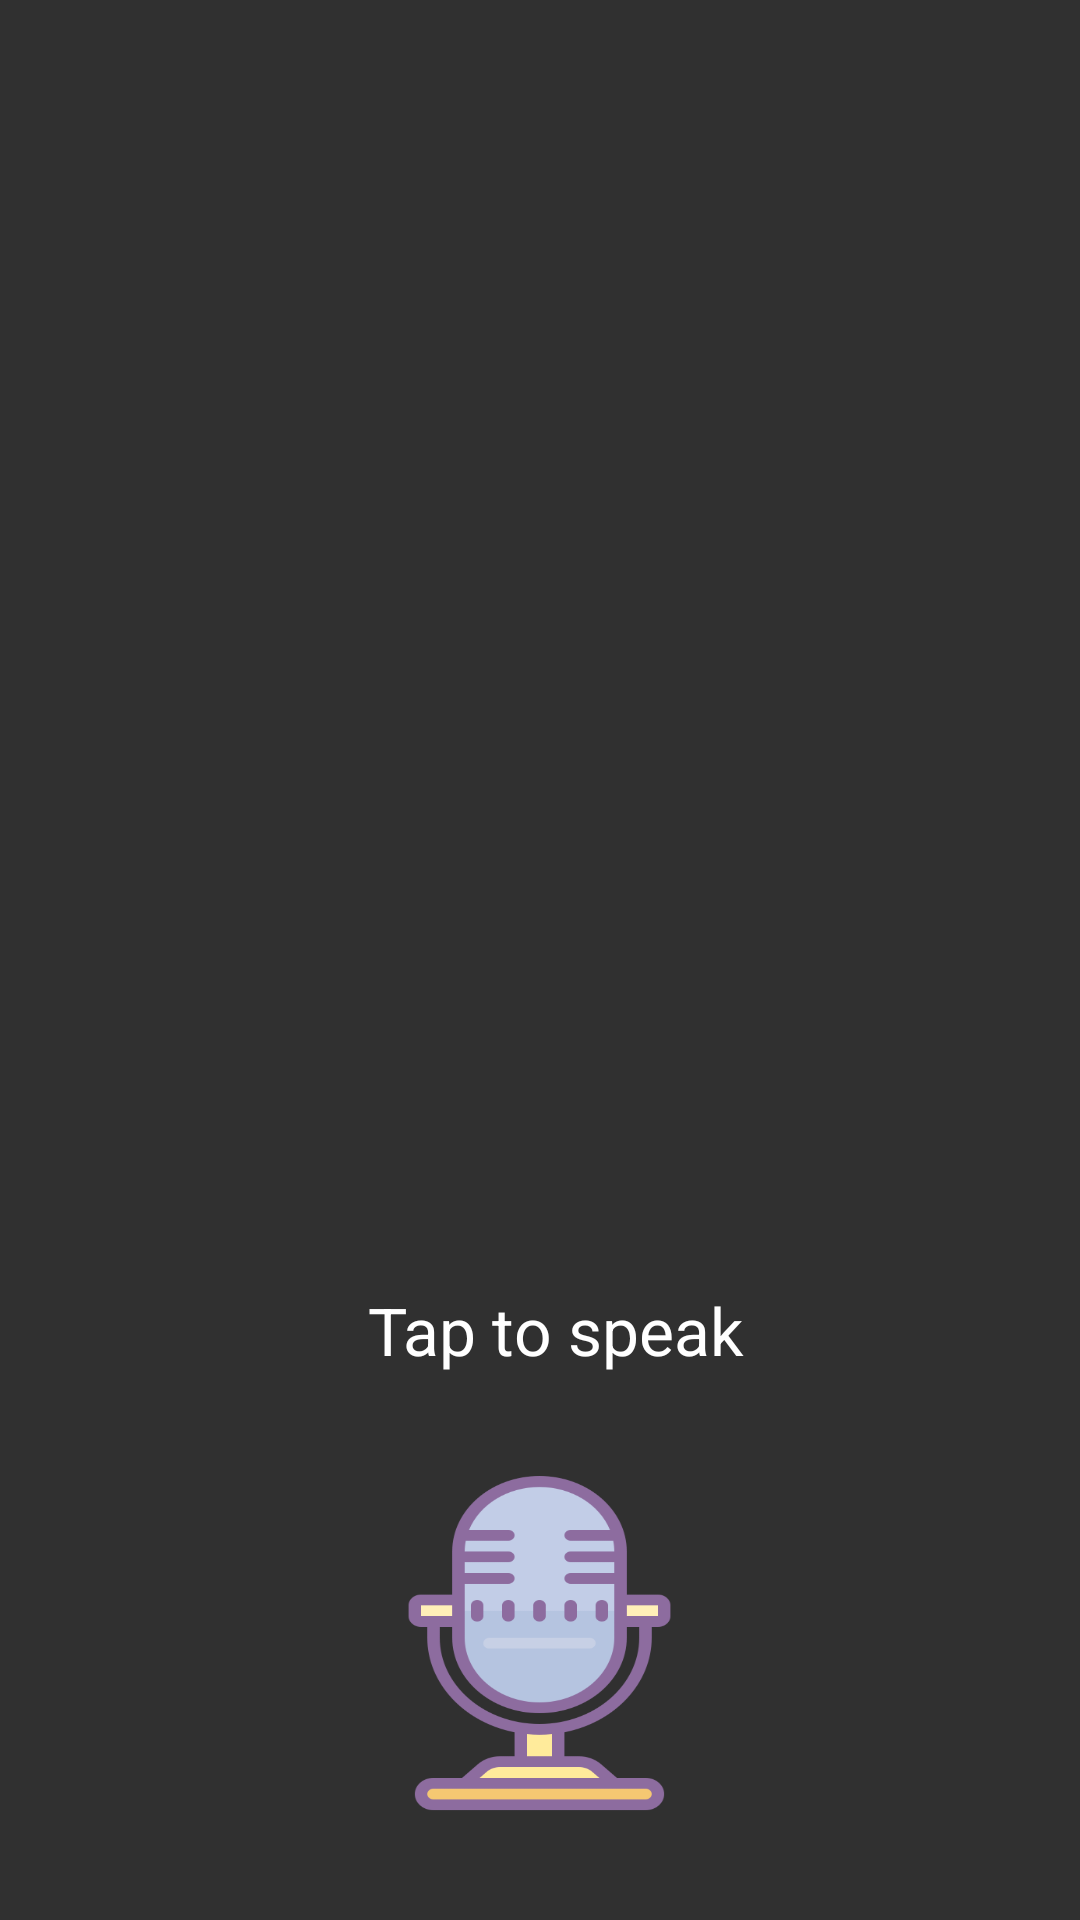

Locate icon controls on the screen. Image size 1080 × 1920, boxes as {"left": x1, "top": y1, "right": x2, "bottom": y2}.
microphone: {"left": 408, "top": 1476, "right": 671, "bottom": 1810}
